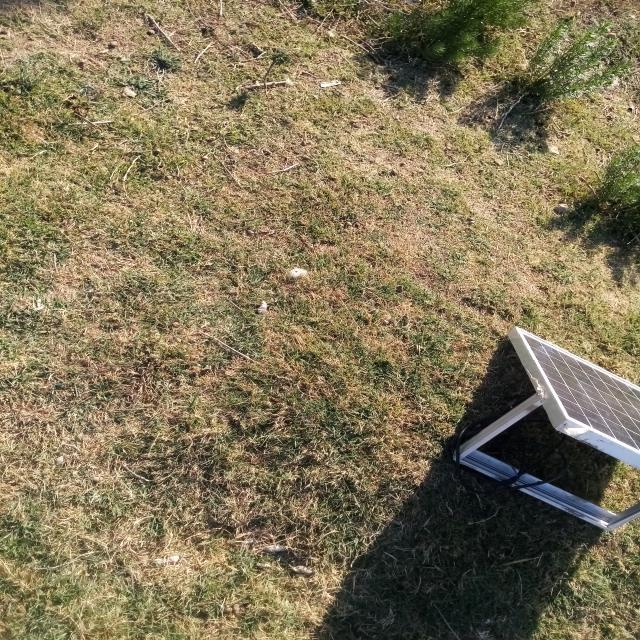no faulty: (516, 326, 640, 452)
